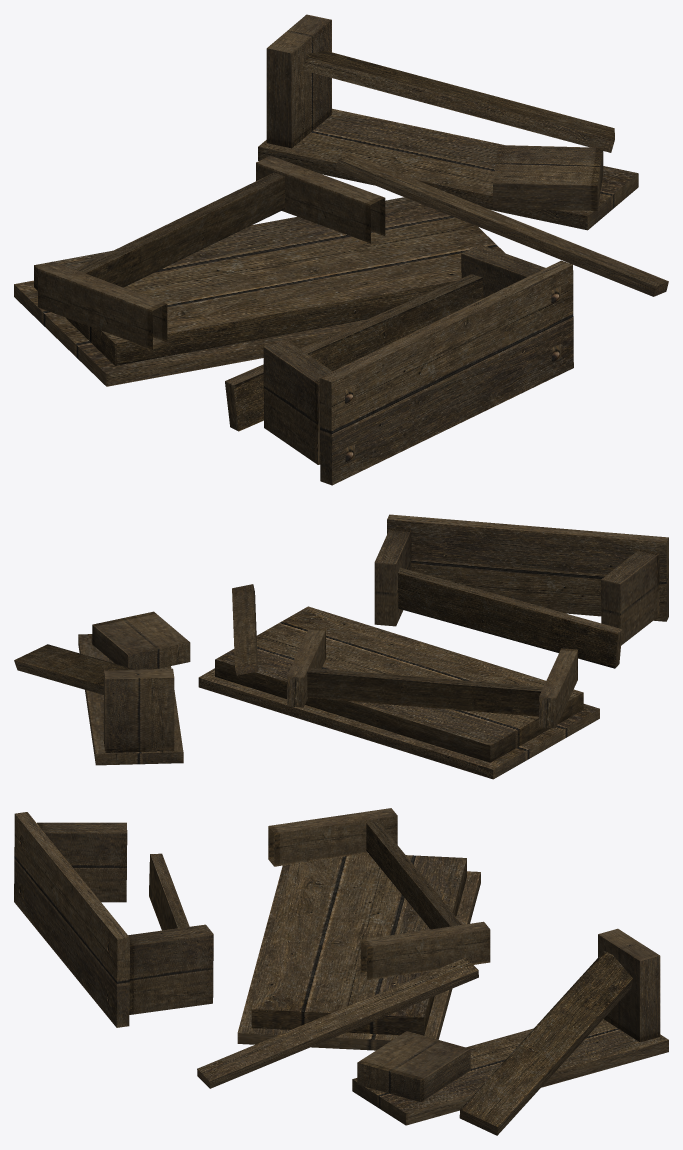
The model's file is mm9_deco_tablebench.glb.
3 views of the same model, one above another, from view 1: azimuth 30°, elevation 25°; view 2: azimuth 150°, elevation 25°; view 3: azimuth 270°, elevation 25° (orthographic). The views are drawn at different scales.
Visible parts, largest first — view 1: Tablebench; view 2: Tablebench; view 3: Tablebench.
Part boxes in pixels (<box>): Tablebench: <box>14,14,668,485</box>; Tablebench: <box>14,514,668,779</box>; Tablebench: <box>14,808,668,1135</box>.
Bounding box in the file's own units: 4.1 × 0.6716 × 4.25.
Materials: 2 (2 with a texture image).
